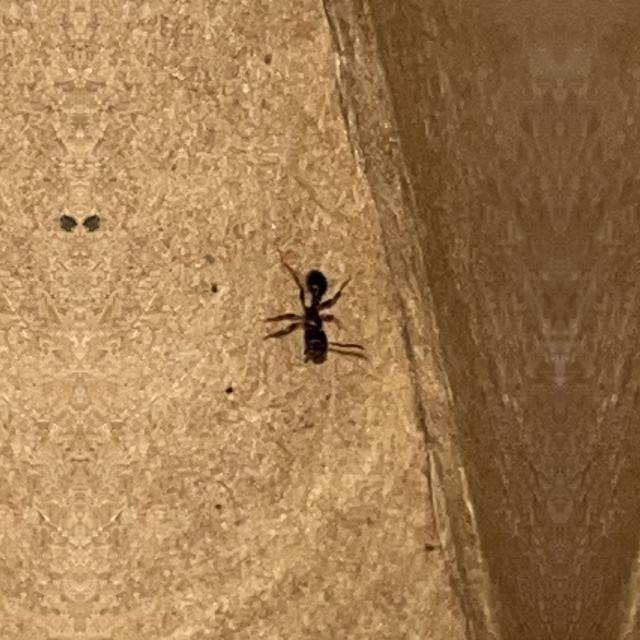Tetramorium: (274, 258, 368, 372)
